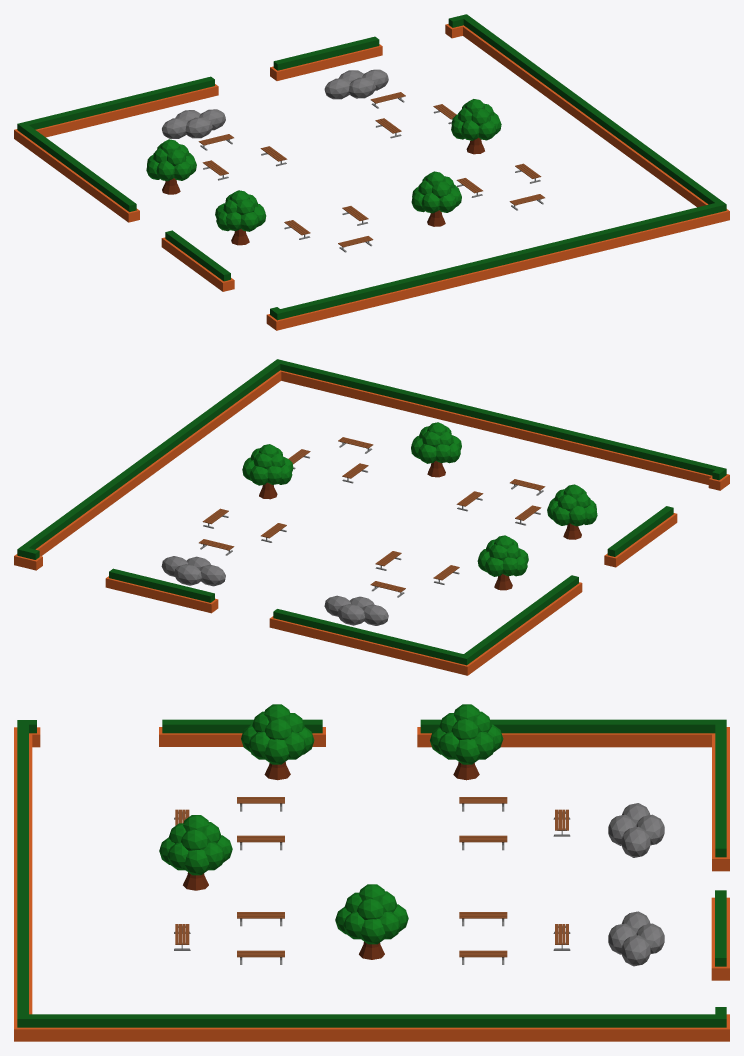
Rendered from University-Model.glb.
3 views of the same model, one above another, from view 1: azimuth 30°, elevation 25°; view 2: azimuth 150°, elevation 25°; view 3: azimuth 270°, elevation 25° (orthographic). The views are drawn at different scales.
Parts seen in each view (by area): view 1: Cube.962, Cube.957, Cube.963, Cube.1011, Cube.1014; view 2: Cube.962, Cube.957, Cube.963, Cube.1011, Cube.1014; view 3: Cube.962, Cube.957, Cube.963, Cube.1014, Cube.1011, Icosphere.201, Icosphere.125, Icosphere.124.
Part boxes in pixels (x1,y1,x2,y2): Cube.962: (445,14,729,275); Cube.957: (14,76,218,222); Cube.963: (266,256,503,330); Cube.1011: (270,36,382,80); Cube.1014: (161,230,234,291); Cube.962: (14,359,501,570); Cube.957: (269,575,582,675); Cube.963: (496,414,729,490); Cube.1011: (105,568,218,613); Cube.1014: (604,506,677,567); Cube.962: (14,869,729,1041); Cube.957: (417,719,729,871); Cube.963: (14,720,40,878); Cube.1014: (159,719,325,746); Cube.1011: (711,890,729,980); Icosphere.201: (621,935,650,966); Icosphere.125: (621,826,650,857); Icosphere.124: (636,814,664,845).
Size of the model in its own units: 32.23 by 4.06 by 32.27.
